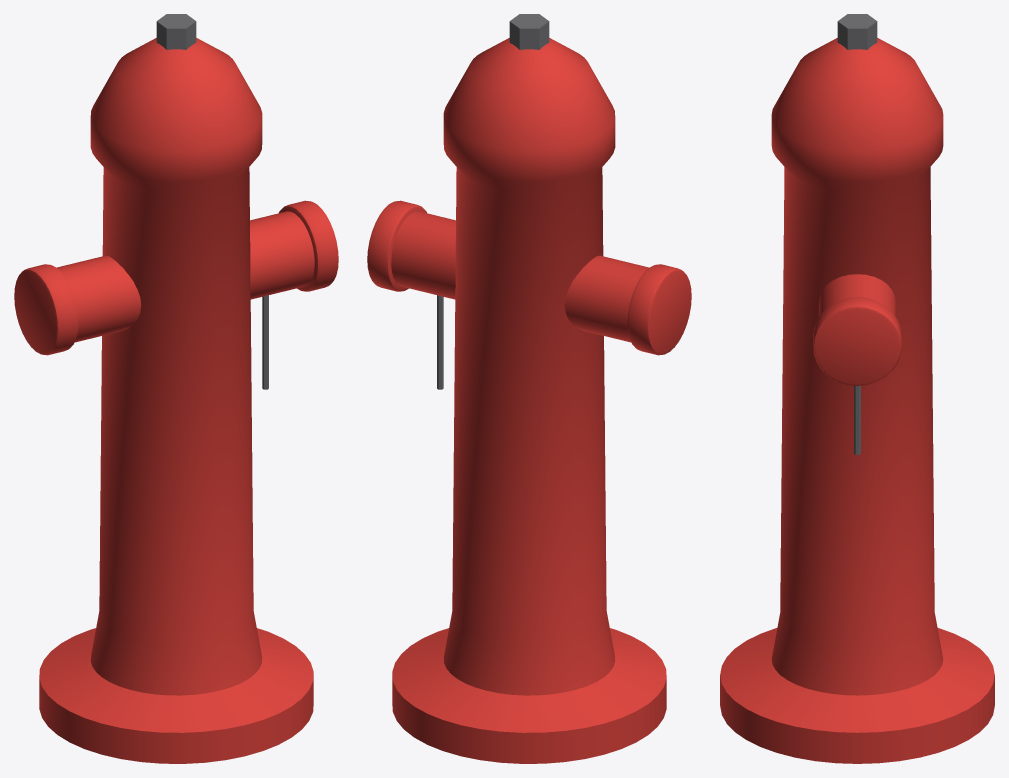
Rendered from HID-INC-003_lod1.glb.
3 views of the same model, side by side, from view 1: azimuth 30°, elevation 25°; view 2: azimuth 150°, elevation 25°; view 3: azimuth 270°, elevation 25° (orthographic).
Visible parts, largest first — view 1: HID-INC-003_corpo, HID-INC-003_saida-1, HID-INC-003_saida1, HID-INC-003_tampao-1, HID-INC-003_tampao1, HID-INC-003_porca, HID-INC-003_corrente; view 2: HID-INC-003_corpo, HID-INC-003_saida-1, HID-INC-003_saida1, HID-INC-003_tampao-1, HID-INC-003_tampao1, HID-INC-003_porca, HID-INC-003_corrente; view 3: HID-INC-003_corpo, HID-INC-003_tampao1, HID-INC-003_saida1, HID-INC-003_porca, HID-INC-003_corrente.
Part boxes in pixels (left/top/right/bottom): HID-INC-003_corpo: left=39, top=38, right=313, bottom=763; HID-INC-003_saida-1: left=57, top=255, right=141, bottom=342; HID-INC-003_saida1: left=250, top=211, right=314, bottom=299; HID-INC-003_tampao-1: left=14, top=264, right=78, bottom=355; HID-INC-003_tampao1: left=279, top=200, right=338, bottom=291; HID-INC-003_porca: left=156, top=14, right=196, bottom=49; HID-INC-003_corrente: left=262, top=295, right=268, bottom=389; HID-INC-003_corpo: left=392, top=38, right=666, bottom=763; HID-INC-003_saida-1: left=564, top=255, right=648, bottom=342; HID-INC-003_saida1: left=391, top=211, right=455, bottom=299; HID-INC-003_tampao-1: left=627, top=264, right=691, bottom=355; HID-INC-003_tampao1: left=367, top=200, right=426, bottom=291; HID-INC-003_porca: left=509, top=14, right=549, bottom=49; HID-INC-003_corrente: left=437, top=295, right=443, bottom=389; HID-INC-003_corpo: left=720, top=38, right=994, bottom=763; HID-INC-003_tampao1: left=813, top=297, right=901, bottom=385; HID-INC-003_saida1: left=819, top=274, right=895, bottom=316; HID-INC-003_porca: left=837, top=14, right=877, bottom=49; HID-INC-003_corrente: left=854, top=385, right=860, bottom=454.
Bounding box in the file's own units: 0.38 × 0.88 × 0.32.
